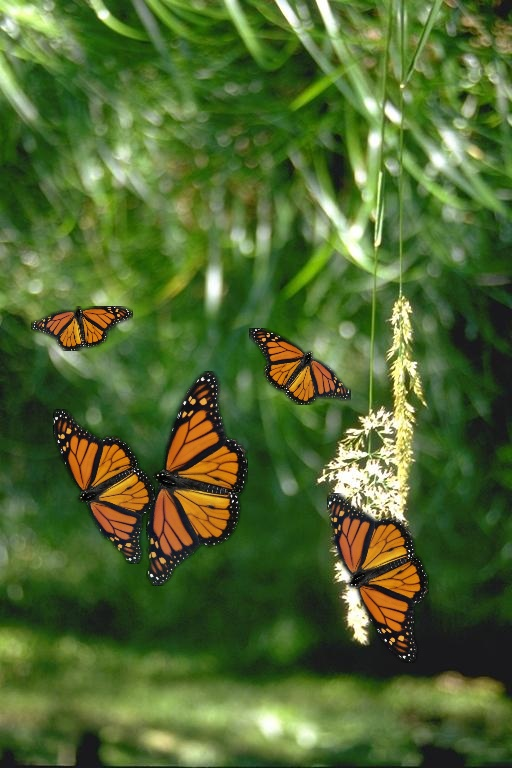danaus_plexippus: (146, 371, 248, 586), (327, 493, 429, 663), (53, 409, 155, 564), (249, 328, 351, 405), (31, 306, 133, 351)
